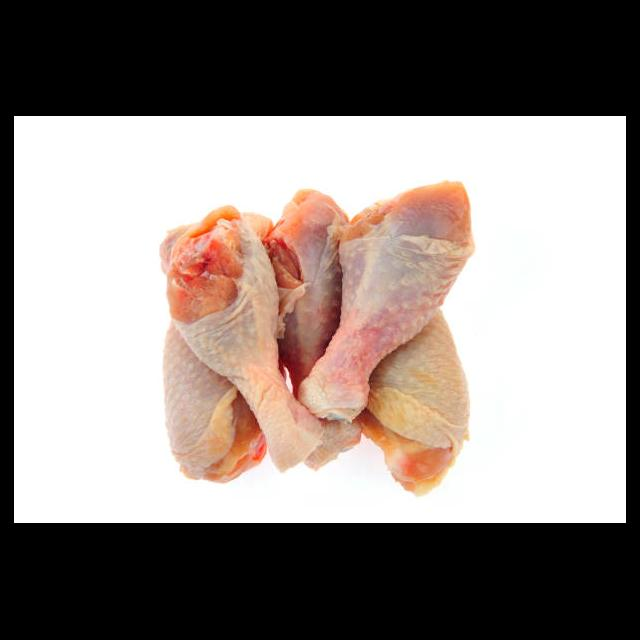chicken: (296, 182, 478, 418), (168, 205, 325, 474), (164, 212, 291, 482), (355, 309, 472, 496)
